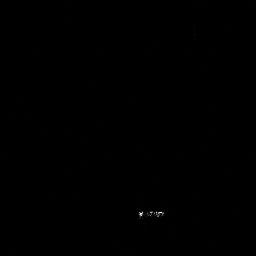ship: (138, 208, 166, 219)
